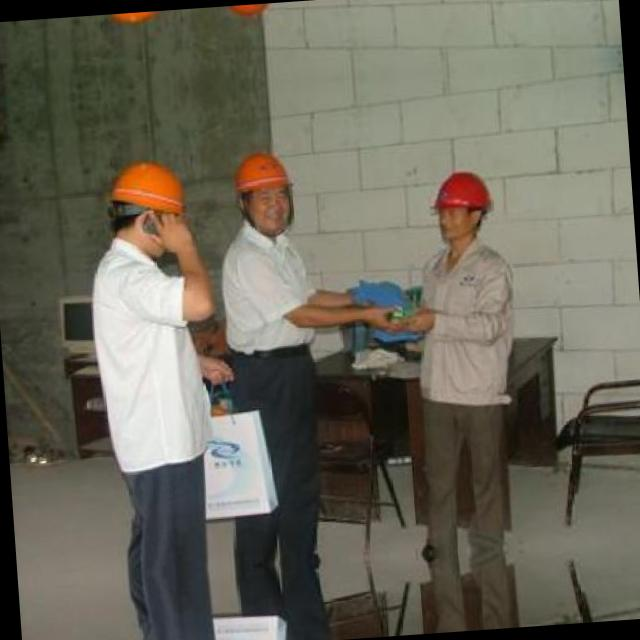helmet: (99, 152, 195, 260), (228, 140, 298, 236), (424, 164, 496, 250), (218, 2, 285, 30)
